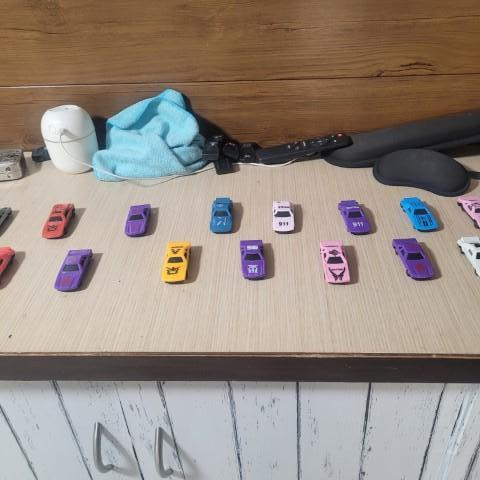car: (388, 234, 435, 280), (55, 248, 92, 290), (317, 239, 349, 287), (40, 201, 76, 240), (335, 199, 371, 236), (161, 242, 193, 283), (238, 238, 268, 280), (208, 196, 235, 235), (271, 198, 296, 235), (126, 203, 152, 237)
